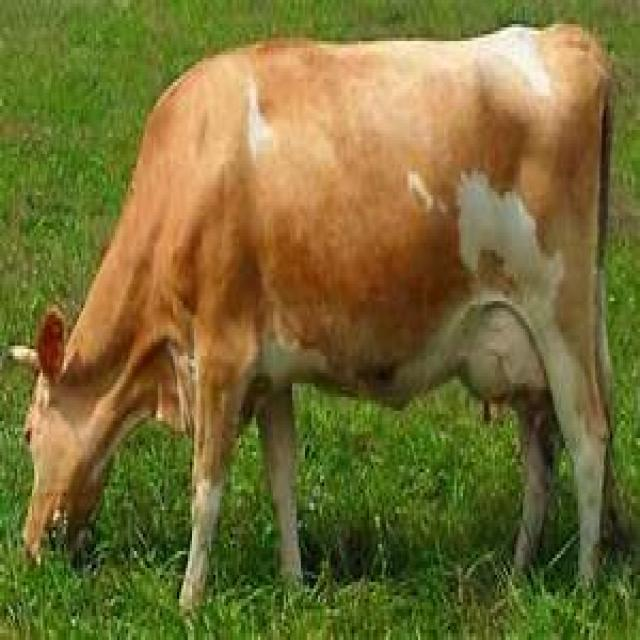animal: (6, 21, 619, 620)
